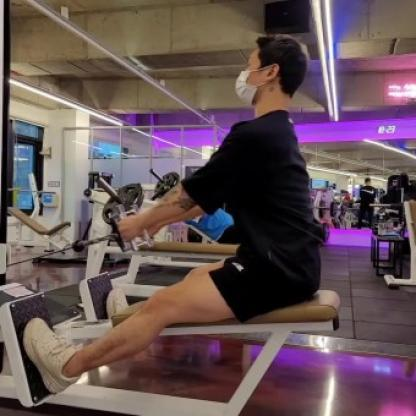Seated Cable Rows: (0, 0, 358, 416)
